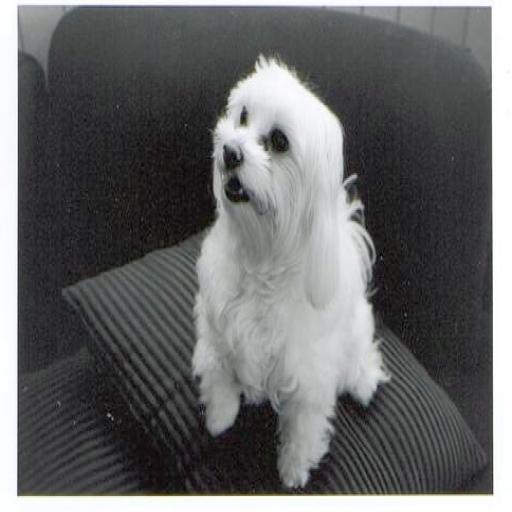dog_face: (210, 64, 331, 234)
